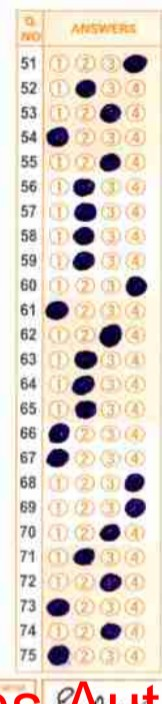filled circles: (99, 324, 122, 347), (48, 644, 69, 665), (45, 301, 68, 320), (123, 54, 146, 73), (47, 126, 68, 146), (74, 350, 96, 369), (72, 375, 94, 394), (74, 202, 96, 221), (46, 598, 69, 616), (126, 276, 146, 296), (100, 103, 120, 123), (75, 400, 96, 419), (73, 251, 94, 270), (46, 449, 68, 467), (73, 226, 93, 245), (49, 423, 69, 442), (125, 473, 145, 492), (125, 498, 145, 517), (100, 573, 121, 591), (73, 178, 94, 196), (100, 153, 120, 171), (75, 79, 95, 97), (73, 548, 94, 565), (100, 524, 120, 541), (100, 623, 120, 639)
